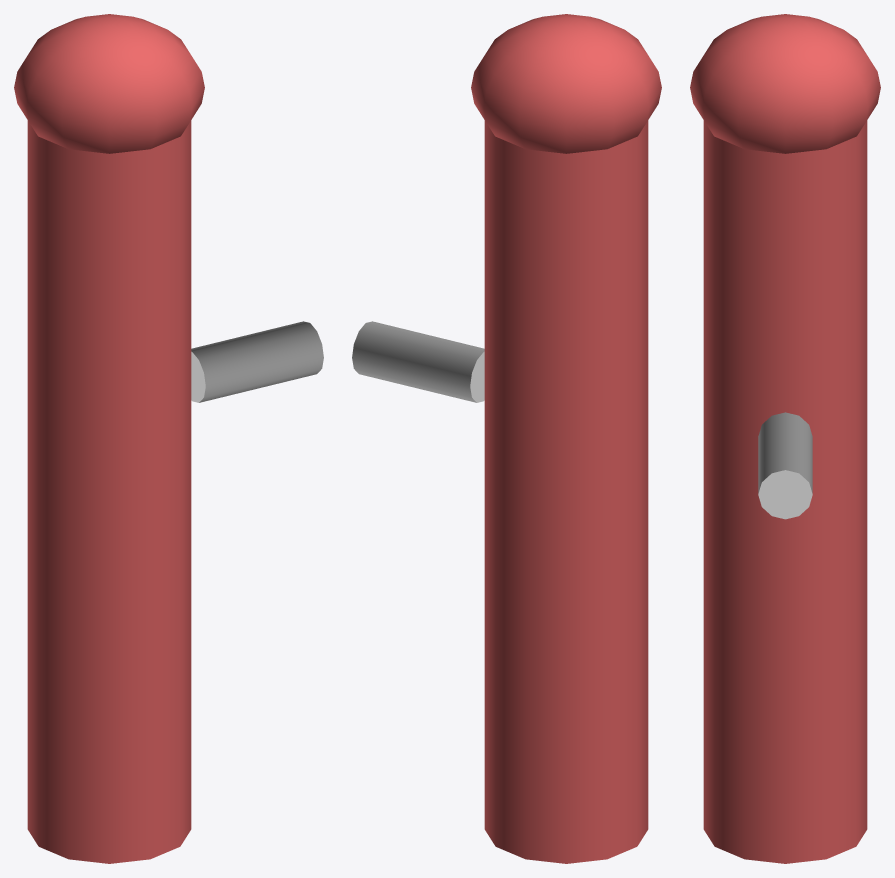
File: env-mod-hydrant.glb
3 views of the same model, side by side, from view 1: azimuth 30°, elevation 25°; view 2: azimuth 150°, elevation 25°; view 3: azimuth 270°, elevation 25° (orthographic).
Size of the model in its own units: 0.24 by 0.65 by 0.14.
